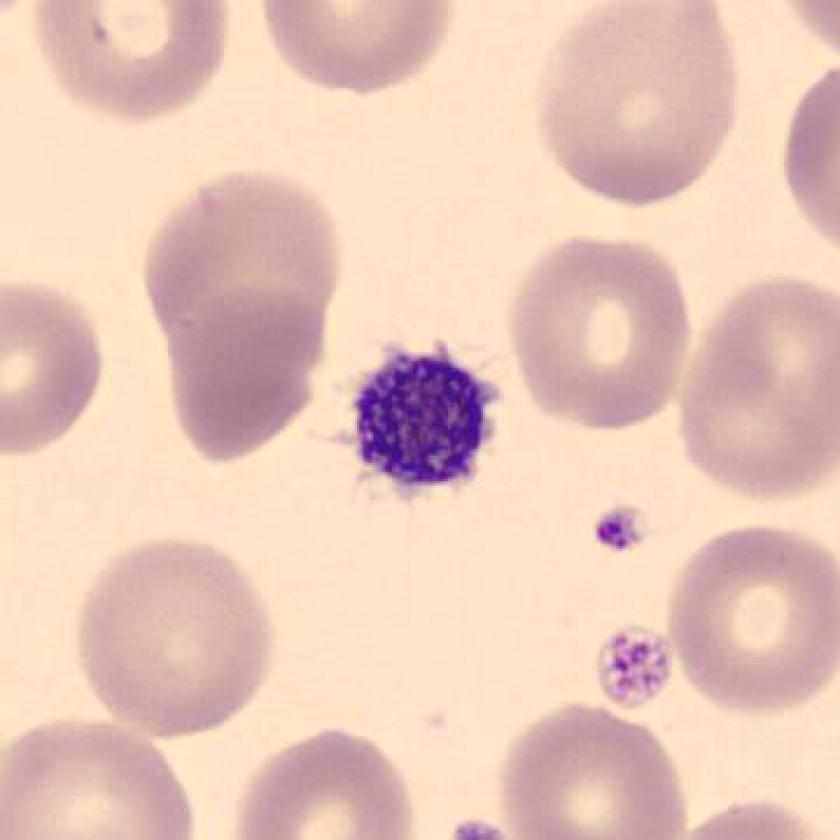platelets: (342, 334, 510, 501), (585, 615, 690, 719), (582, 497, 666, 564)
